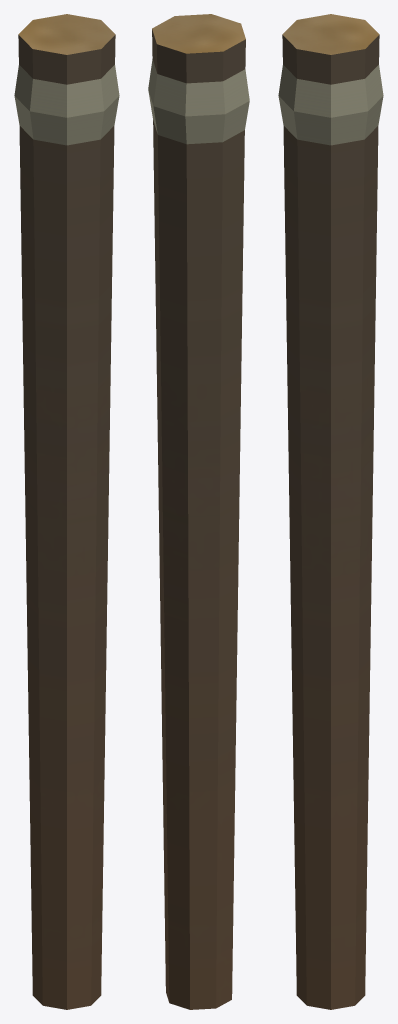
Rendered from Pole_1.fbx.
3 views of the same model, side by side, from view 1: azimuth 90°, elevation 25°; view 2: azimuth 210°, elevation 25°; view 3: azimuth 270°, elevation 25° (orthographic).
Visible parts, largest first — view 1: pCylinder54; view 2: pCylinder54; view 3: pCylinder54.
Boxes of the visible parts, x1,y1,x2,y2 form: pCylinder54: [14, 14, 119, 1009]; pCylinder54: [148, 14, 249, 1009]; pCylinder54: [278, 14, 383, 1009].
Size of the model in its own units: 30.73 by 310 by 30.73.
